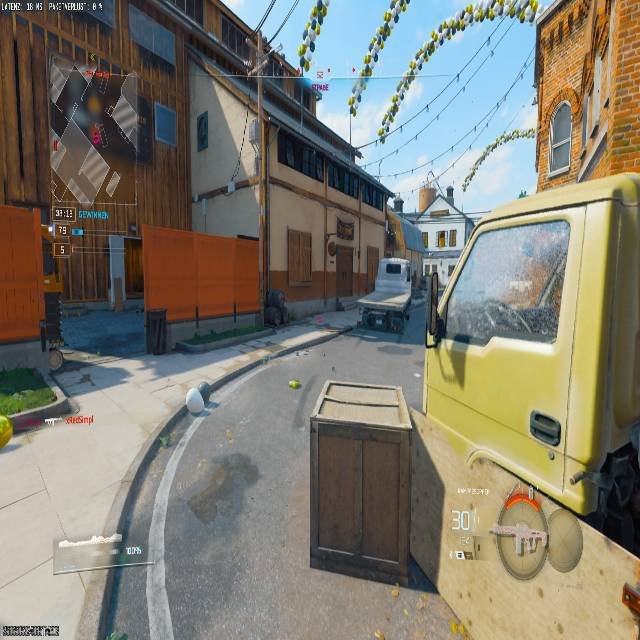player: (49, 57, 143, 163)
